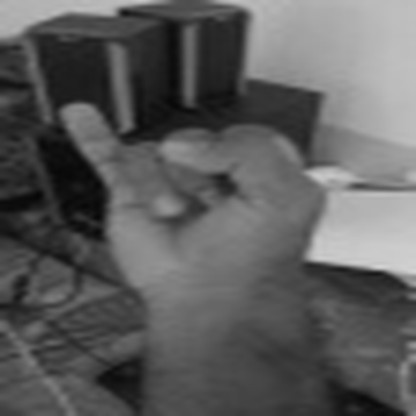i: (35, 88, 326, 296)
